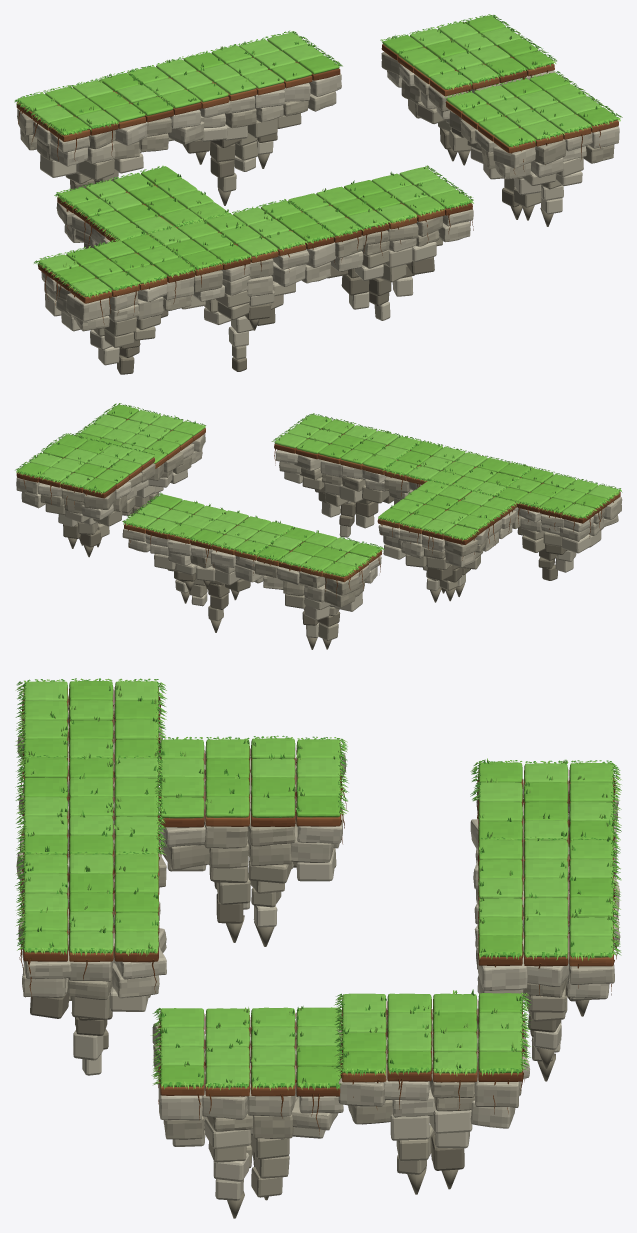
The model's file is terrains.glb.
The picture shows the model from 3 angles, top to bottom: view 1: azimuth 30°, elevation 25°; view 2: azimuth 150°, elevation 25°; view 3: azimuth 270°, elevation 25°; orthographic projection. The views are drawn at different scales.
Parts seen in each view (by area): view 1: pierre.392, pierre.236, pierre.252, pierre.219, pierre.365, pierre.352, pierre.376, pierre.227, pierre.289, pierre.117, pierre.178, pierre.344 (+3 smaller); view 2: pierre.346, pierre.118, pierre.347, pierre, pierre.388, pierre.001, pierre.221; view 3: pierre.344, pierre.163, pierre.281, pierre.171, pierre.278, pierre.058, pierre.054, pierre.111, pierre.276, pierre.170, case_herbe.013, case_herbe.014 (+149 smaller).
Boxes of the visible parts, bbox=[...] form: pierre.392: bbox=[66, 293, 109, 321]; pierre.236: bbox=[493, 146, 535, 168]; pierre.252: bbox=[534, 139, 565, 164]; pierre.219: bbox=[271, 262, 305, 286]; pierre.365: bbox=[78, 159, 114, 180]; pierre.352: bbox=[50, 143, 87, 166]; pierre.376: bbox=[115, 122, 147, 145]; pierre.227: bbox=[306, 242, 335, 267]; pierre.289: bbox=[168, 121, 204, 144]; pierre.117: bbox=[438, 221, 470, 242]; pierre.178: bbox=[193, 270, 222, 292]; pierre.344: bbox=[309, 73, 341, 96]; pierre.346: bbox=[325, 574, 359, 595]; pierre.118: bbox=[84, 491, 115, 509]; pierre.347: bbox=[324, 589, 355, 607]; pierre: bbox=[444, 539, 477, 556]; pierre.388: bbox=[562, 534, 591, 553]; pierre.001: bbox=[445, 550, 475, 567]; pierre.221: bbox=[384, 476, 410, 492]; pierre.344: bbox=[478, 951, 527, 990]; pierre.163: bbox=[474, 1066, 519, 1107]; pierre.281: bbox=[158, 1084, 202, 1120]; pierre.171: bbox=[338, 1078, 385, 1106]; pierre.278: bbox=[202, 1083, 250, 1119]; pierre.058: bbox=[161, 841, 209, 869]; pierre.054: bbox=[204, 810, 248, 848]; pierre.111: bbox=[112, 963, 159, 998]; pierre.276: bbox=[247, 1087, 296, 1116]; pierre.170: bbox=[390, 1114, 429, 1140]; case_herbe.013: bbox=[251, 796, 295, 817]; case_herbe.014: bbox=[205, 796, 249, 817].
Size of the model in its own units: 42.78 by 10.33 by 26.78.
